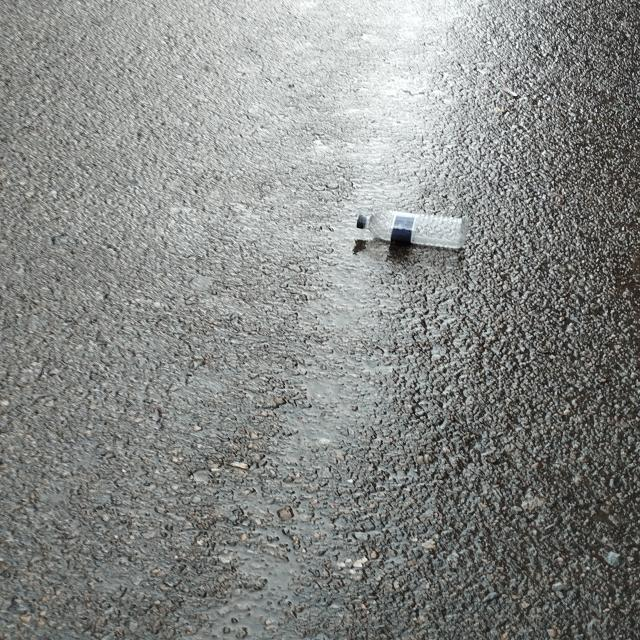plastic: (357, 208, 467, 252)
